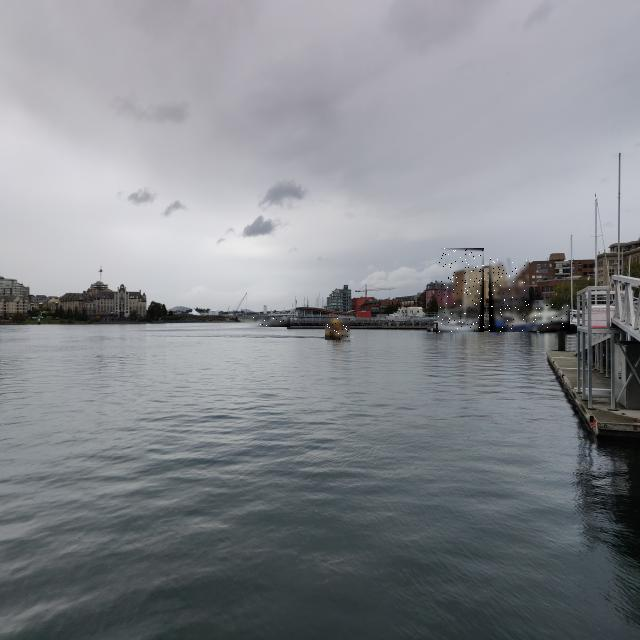aircraft: (249, 317, 290, 327)
boat: (438, 248, 484, 332), (489, 258, 529, 332), (526, 300, 570, 331), (326, 318, 352, 340)
